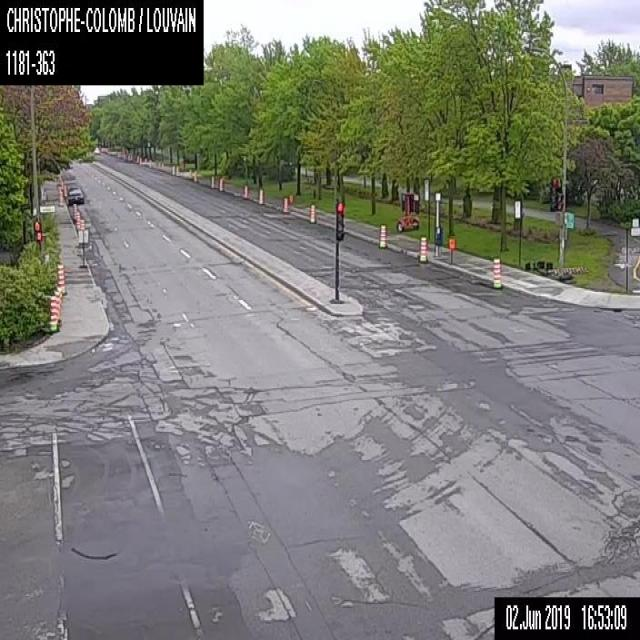construction: (395, 192, 419, 232), (47, 295, 59, 332), (78, 228, 89, 268), (491, 255, 503, 288), (53, 286, 63, 321), (57, 261, 66, 294), (418, 234, 427, 262), (447, 236, 455, 264), (378, 223, 387, 247), (54, 293, 59, 325), (309, 202, 315, 222), (75, 210, 80, 230), (258, 187, 263, 204), (58, 190, 63, 206), (72, 202, 76, 220), (210, 174, 215, 188), (283, 196, 287, 212), (242, 184, 246, 197), (219, 177, 223, 190), (194, 169, 198, 182), (79, 218, 84, 228), (188, 168, 192, 180), (175, 164, 179, 175), (172, 164, 174, 175)
vehicle: (66, 183, 84, 204)
